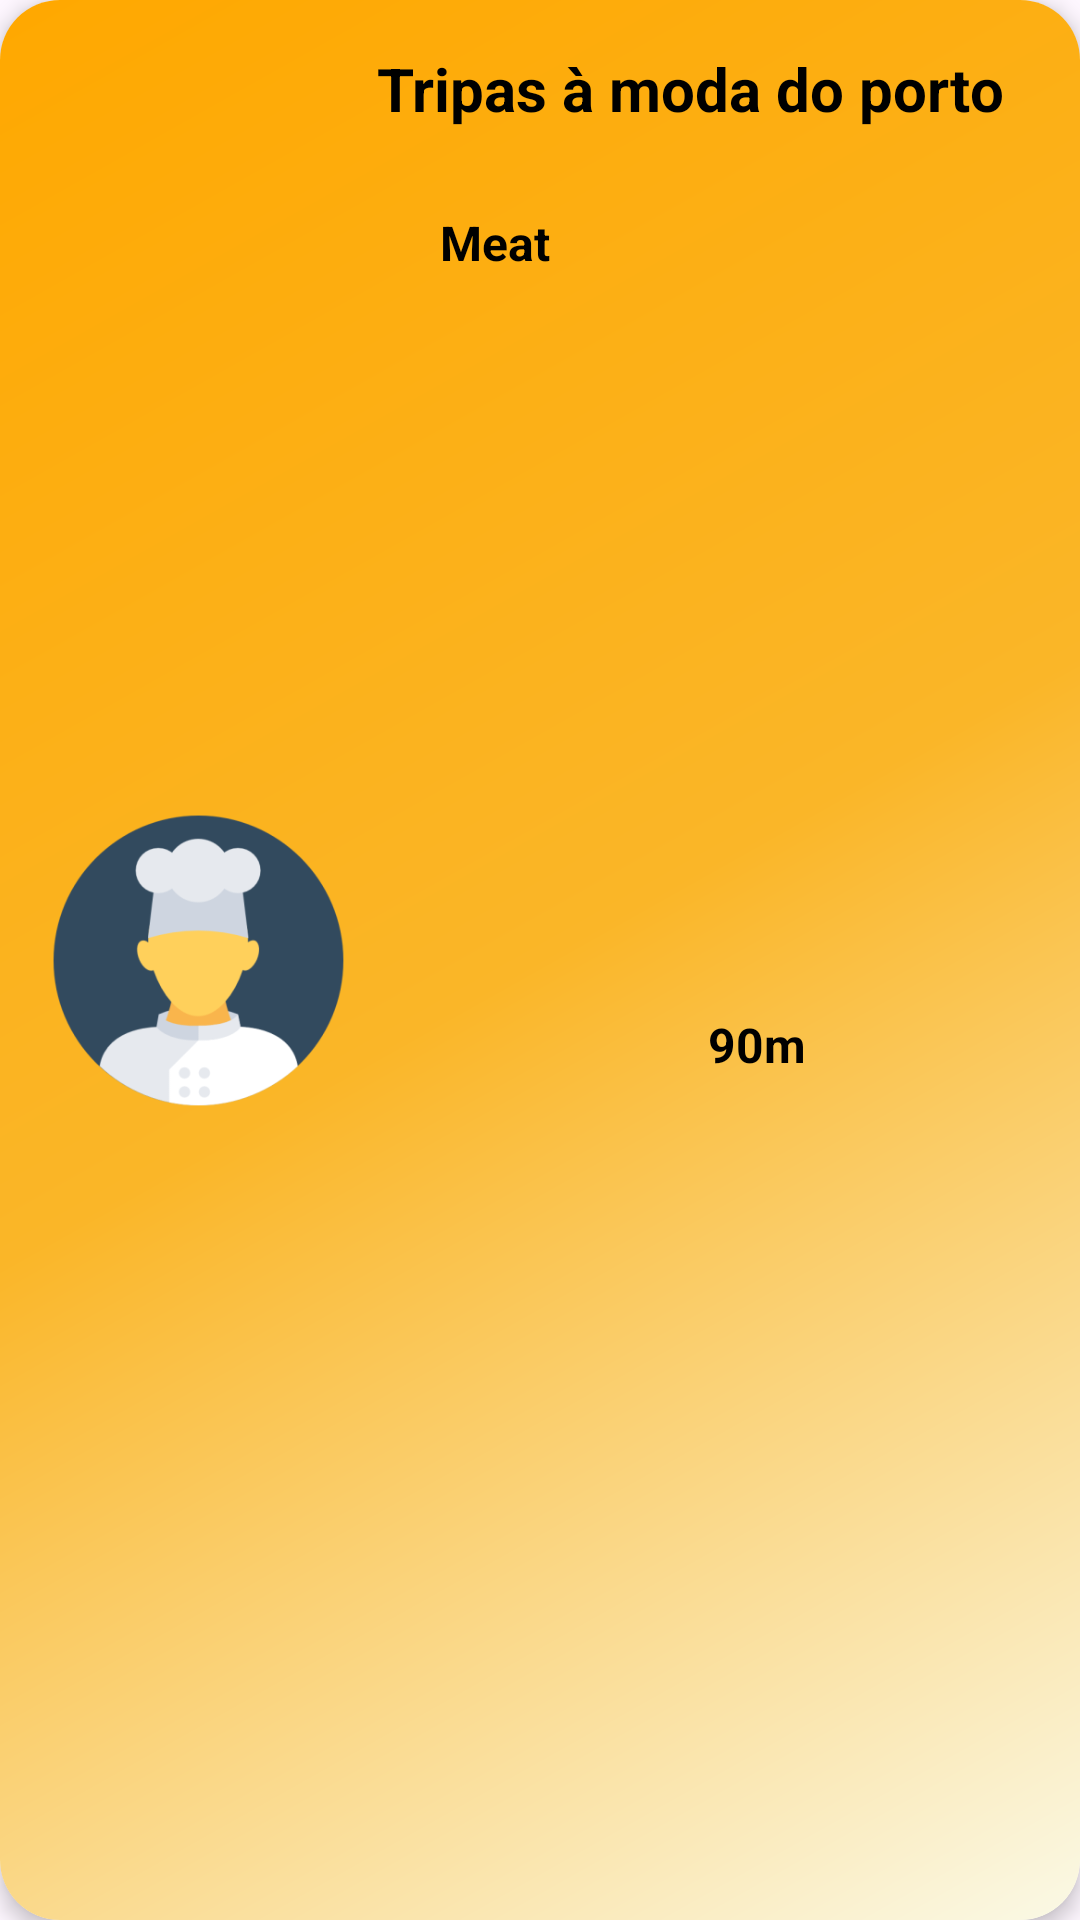

Icons on this 1080w x 1920h Android screen, each with its box as bbox(x1, y1, x2, y2):
profile: bbox(53, 815, 344, 1106)
